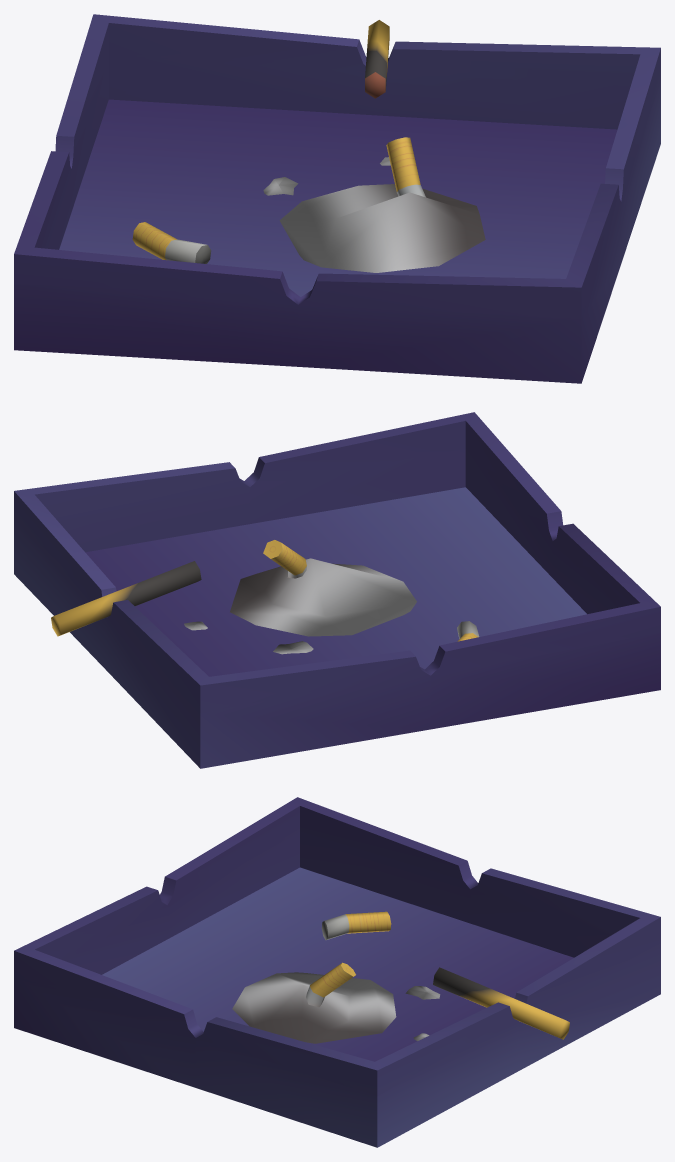
File: mesh_ashtray_LOD1.fbx
3 renders of one model, top to bottom at view 1: azimuth 30°, elevation 25°; view 2: azimuth 150°, elevation 25°; view 3: azimuth 270°, elevation 25°, orthographic. The views are drawn at different scales.
Parts seen in each view (by area): view 1: ashtray.001; view 2: ashtray.001; view 3: ashtray.001.
Boxes of the visible parts, left/top/right/bottom form: ashtray.001: left=14, top=14, right=660, bottom=383; ashtray.001: left=14, top=412, right=660, bottom=768; ashtray.001: left=14, top=797, right=660, bottom=1147.
Bounding box in the file's own units: 34.54 × 4.93 × 34.54.
